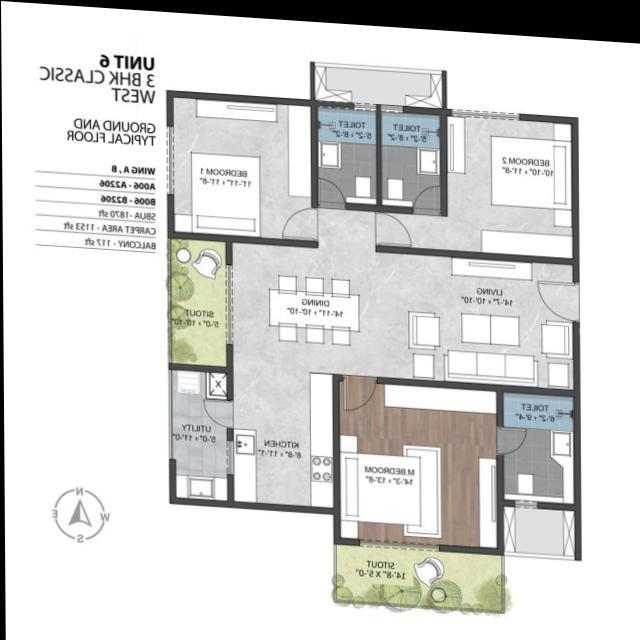Balcony-Sitout: (334, 539, 501, 603), (169, 236, 224, 362)
Bedroom: (170, 91, 314, 237)
Bedroom with Toilet: (335, 371, 576, 542), (377, 103, 573, 254)
Dining: (262, 266, 361, 344)
Enterance-Foyer: (533, 269, 579, 313)
Kitchen: (232, 362, 331, 502)
Living: (375, 246, 572, 381)
Toilet: (502, 384, 573, 495), (380, 105, 439, 202), (316, 101, 375, 198)
Utility: (174, 367, 227, 496)
